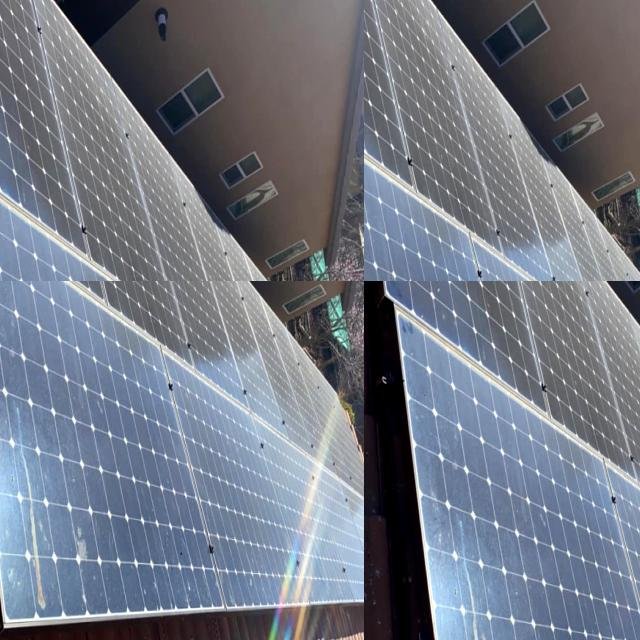bird: (38, 332, 106, 374), (0, 298, 22, 333), (31, 281, 66, 301), (31, 281, 63, 302), (75, 281, 106, 300), (80, 281, 107, 302), (0, 281, 27, 301), (0, 281, 17, 307), (0, 281, 19, 300), (43, 281, 61, 294), (50, 281, 70, 292), (24, 281, 43, 292), (0, 281, 16, 290), (0, 281, 18, 289)
dust: (433, 414, 537, 640), (407, 281, 569, 397), (556, 477, 640, 640), (579, 364, 640, 493), (0, 122, 53, 207), (49, 208, 98, 278), (0, 128, 39, 179), (108, 212, 136, 281), (147, 244, 195, 281), (56, 171, 84, 199)
hotspot: (364, 95, 452, 201), (496, 118, 537, 200)
